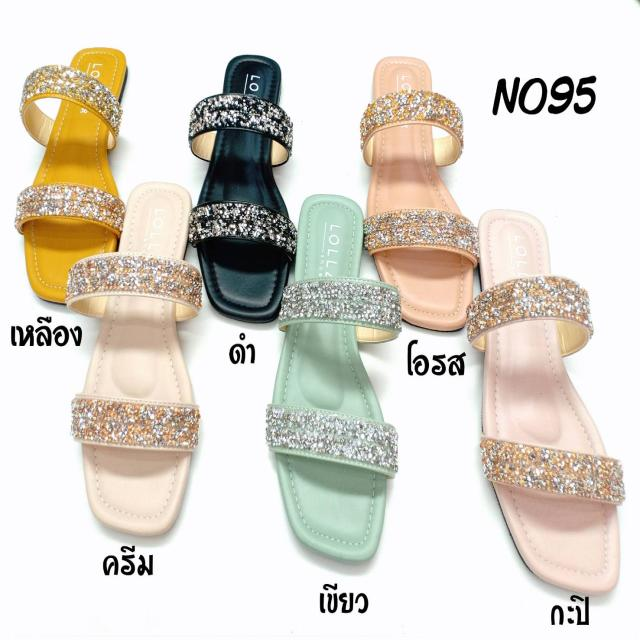black: (202, 51, 292, 315)
cream: (80, 188, 198, 533)
green: (271, 191, 390, 570)
kapi: (479, 212, 623, 596)
orot: (364, 55, 472, 331)
yellow: (25, 45, 125, 306)
